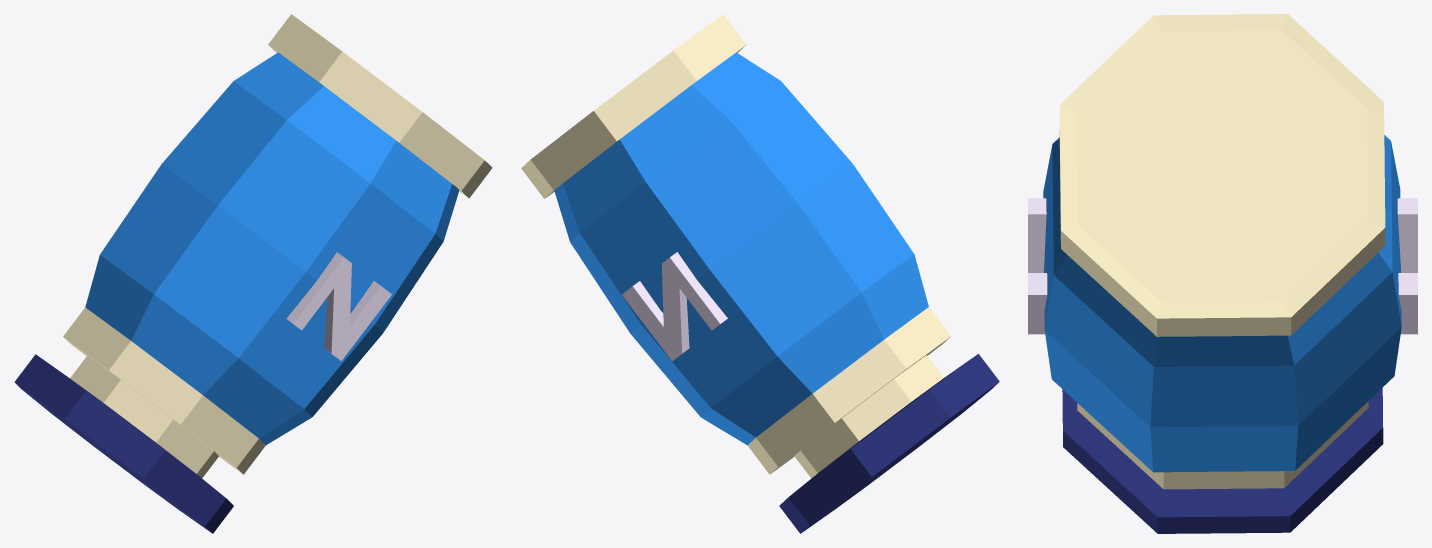
Rendered from nitro.fbx.
The picture shows the model from 3 angles, left to right: view 1: azimuth 30°, elevation 25°; view 2: azimuth 150°, elevation 25°; view 3: azimuth 270°, elevation 25°; orthographic projection. The views are drawn at different scales.
Visible parts, largest first — view 1: Cylinder; view 2: Cylinder; view 3: Cylinder.
Boxes of the visible parts, x1,y1,x2,y2 form: Cylinder: (14,14,492,533); Cylinder: (521,14,999,533); Cylinder: (1028,14,1417,533).
Bounding box in the file's own units: 156 × 158 × 92.47.
